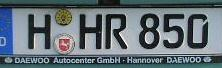0: (187, 13, 209, 49)
5: (163, 13, 184, 48)
8: (139, 13, 160, 49)
D: (0, 35, 7, 46)
H: (79, 13, 103, 50), (28, 13, 51, 51)
R: (105, 13, 128, 49)
